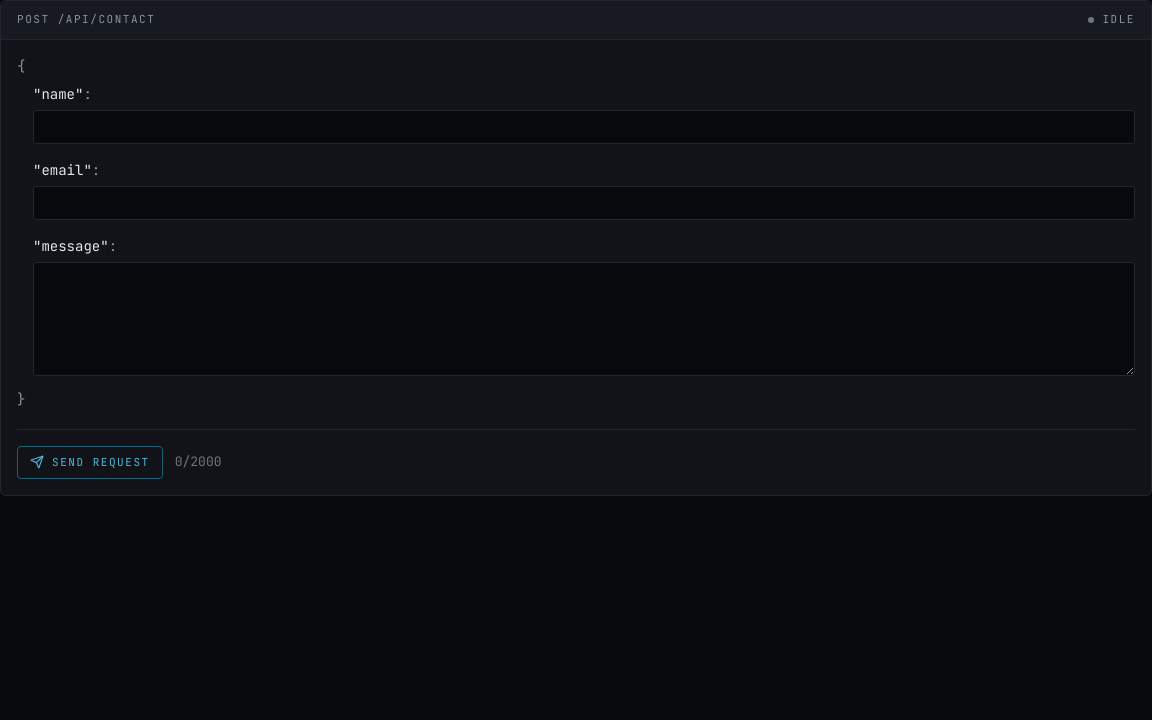
it: ContactTerminal — validación de cliente › reporta los tres campos a la vez, no de a uno
Click the button "send request": [90, 462] box x1=17 y1=446 x2=163 y2=479
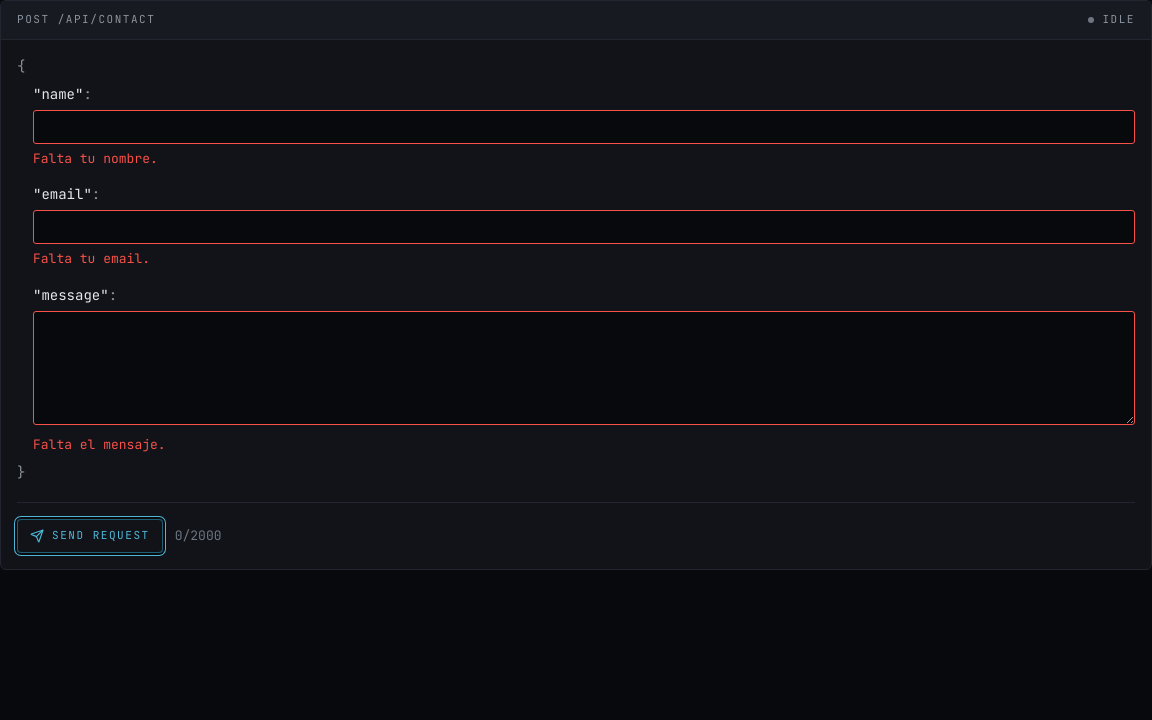
Result: the number of messages is 3 at x1=33 y1=150 x2=158 y2=167; x1=33 y1=250 x2=150 y2=267; x1=33 y1=436 x2=166 y2=453
